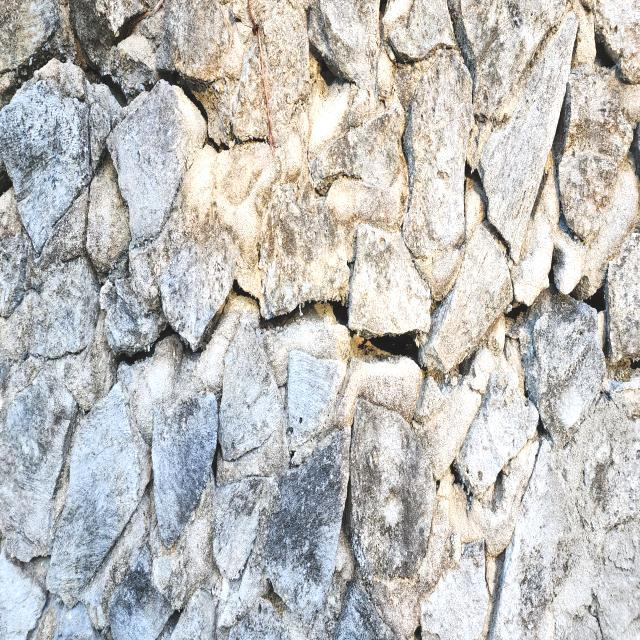SurfaceCrack: (0, 236, 353, 638)
